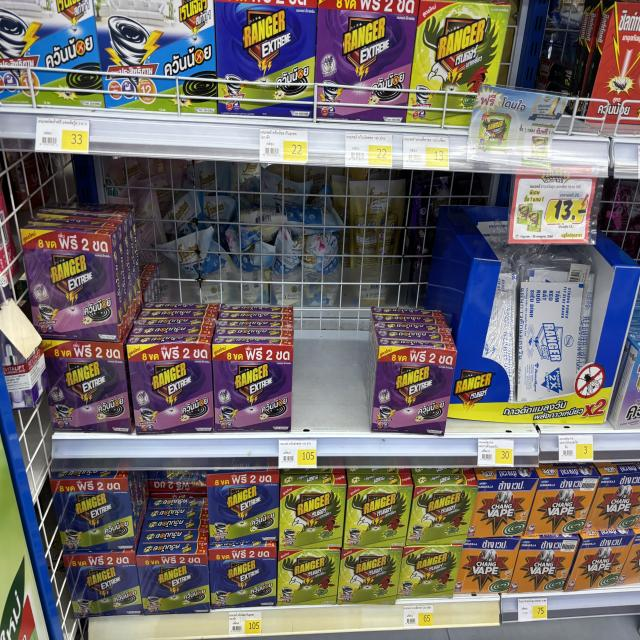empty_shelf: (291, 305, 370, 434)
